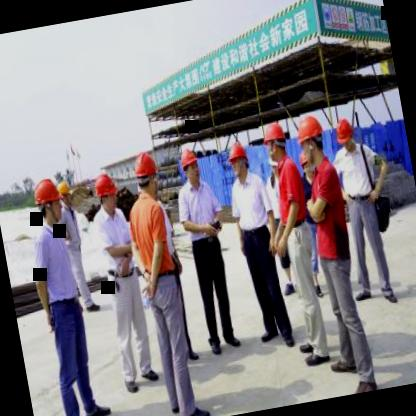helmet: (290, 112, 330, 172), (31, 174, 68, 230), (132, 147, 164, 201), (260, 117, 292, 164), (90, 168, 120, 215), (223, 134, 252, 182), (176, 141, 204, 186), (332, 112, 360, 156), (55, 176, 77, 214)
